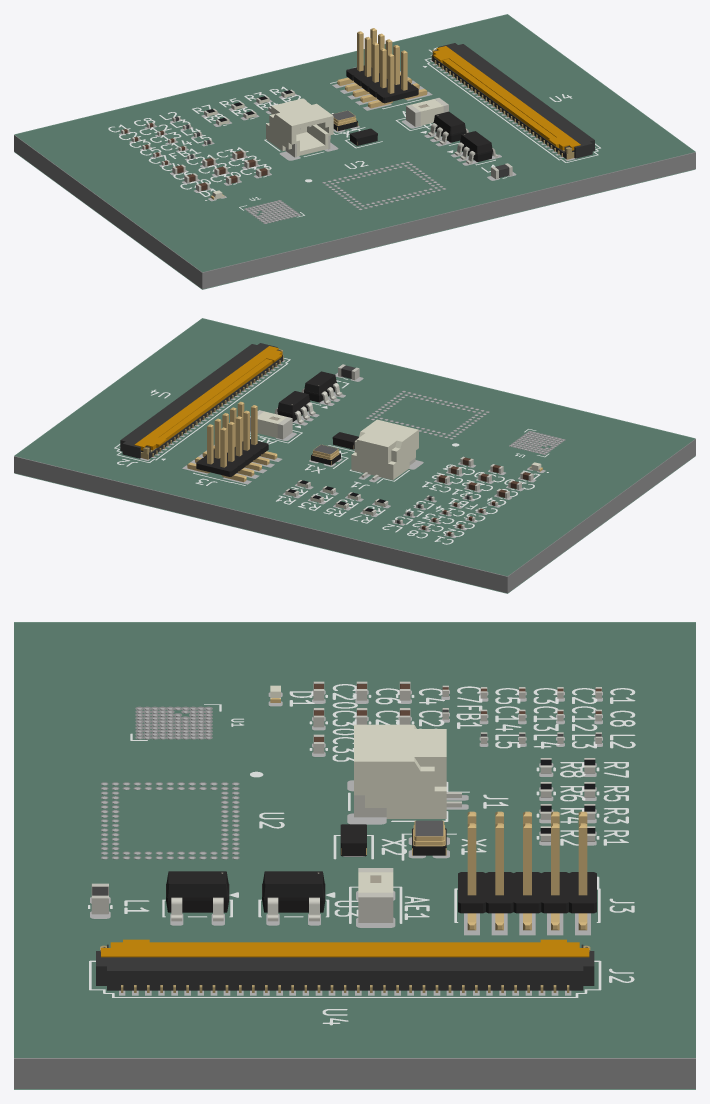
Rendered from form-factor.glb.
The picture shows the model from 3 angles, top to bottom: view 1: azimuth 30°, elevation 25°; view 2: azimuth 150°, elevation 25°; view 3: azimuth 270°, elevation 25°; orthographic projection. The views are drawn at different scales.
Visible parts, largest first — view 1: =>[0:1:1:19], =>[0:1:1:17], J3, =>[0:1:1:15], =>[0:1:1:16], J1, body, lock, U4, U3, AE1, =>[0:1:1:18] (+1 smaller); view 2: =>[0:1:1:19], =>[0:1:1:17], J3, =>[0:1:1:16], =>[0:1:1:15], J1, body, lock, U4, U3, AE1, =>[0:1:1:18] (+2 smaller); view 3: =>[0:1:1:19], =>[0:1:1:17], body, =>[0:1:1:16], J3, =>[0:1:1:15], J1, lock, U4, U3, AE1, X1 (+2 smaller).
Part boxes in pixels (<box>): =>[0:1:1:19]: <box>14,15,695,289</box>; =>[0:1:1:17]: <box>14,14,695,272</box>; J3: <box>337,28,427,108</box>; =>[0:1:1:15]: <box>119,60,595,223</box>; =>[0:1:1:16]: <box>108,47,600,217</box>; J1: <box>266,98,333,157</box>; body: <box>432,43,594,158</box>; lock: <box>433,46,580,150</box>; U4: <box>454,131,498,164</box>; U3: <box>428,111,468,144</box>; AE1: <box>406,98,448,126</box>; =>[0:1:1:18]: <box>14,152,695,289</box>; =>[0:1:1:19]: <box>14,319,695,593</box>; =>[0:1:1:17]: <box>14,318,695,576</box>; J3: <box>187,401,277,482</box>; =>[0:1:1:16]: <box>114,358,549,544</box>; =>[0:1:1:15]: <box>119,360,564,538</box>; J1: <box>351,419,418,480</box>; body: <box>120,343,282,458</box>; lock: <box>134,346,282,450</box>; U4: <box>301,371,342,404</box>; U3: <box>274,391,315,423</box>; AE1: <box>250,410,292,439</box>; =>[0:1:1:18]: <box>14,456,695,593</box>; =>[0:1:1:19]: <box>14,623,695,1088</box>; =>[0:1:1:17]: <box>14,622,695,1057</box>; body: <box>96,944,594,990</box>; =>[0:1:1:16]: <box>88,684,635,1025</box>; J3: <box>458,811,596,930</box>; =>[0:1:1:15]: <box>90,690,602,995</box>; J1: <box>354,724,461,818</box>; lock: <box>101,939,589,957</box>; U4: <box>166,871,229,921</box>; U3: <box>262,871,325,921</box>; AE1: <box>358,868,393,922</box>; X1: <box>412,820,446,855</box>.
Size of the model in its own units: 0.0472 by 0.00604 by 0.0312.
